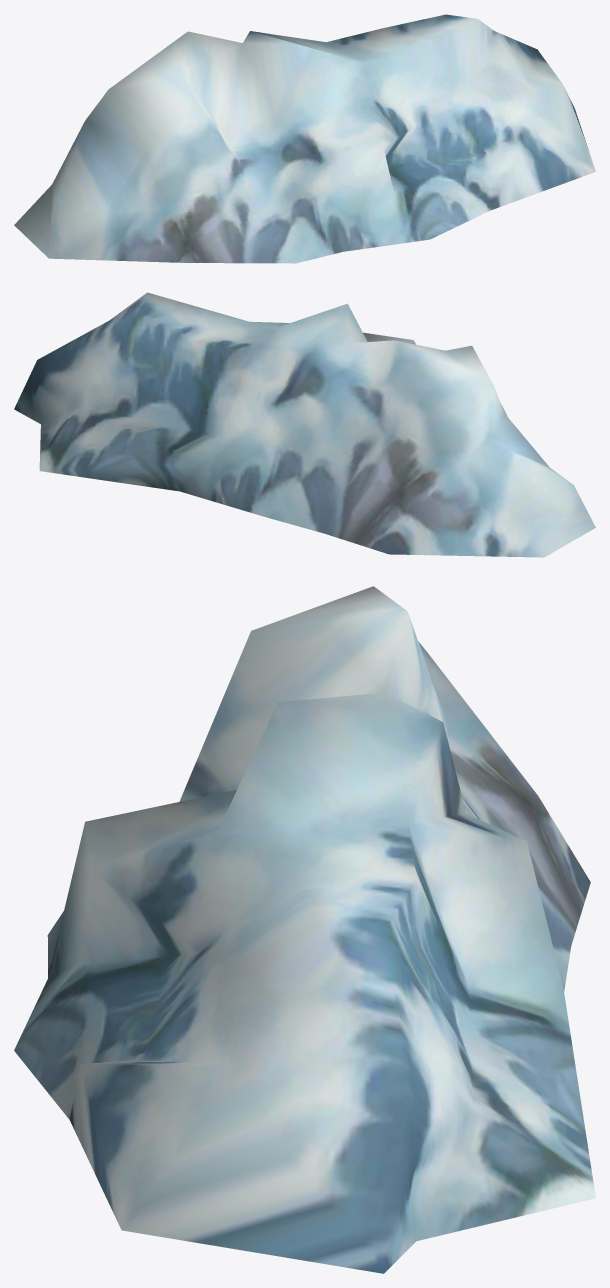
File: h5_xuesuish_c.FBX
The picture shows the model from 3 angles, top to bottom: view 1: azimuth 30°, elevation 25°; view 2: azimuth 150°, elevation 25°; view 3: azimuth 270°, elevation 25°; orthographic projection. The views are drawn at different scales.
Parts seen in each view (by area): view 1: h5_xuesuish_c; view 2: h5_xuesuish_c; view 3: h5_xuesuish_c.
Part boxes in pixels (<box>): h5_xuesuish_c: <box>14,14,595,263</box>; h5_xuesuish_c: <box>14,292,595,557</box>; h5_xuesuish_c: <box>14,586,595,1273</box>.
Size of the model in its own units: 6.03 by 1.74 by 2.93.
